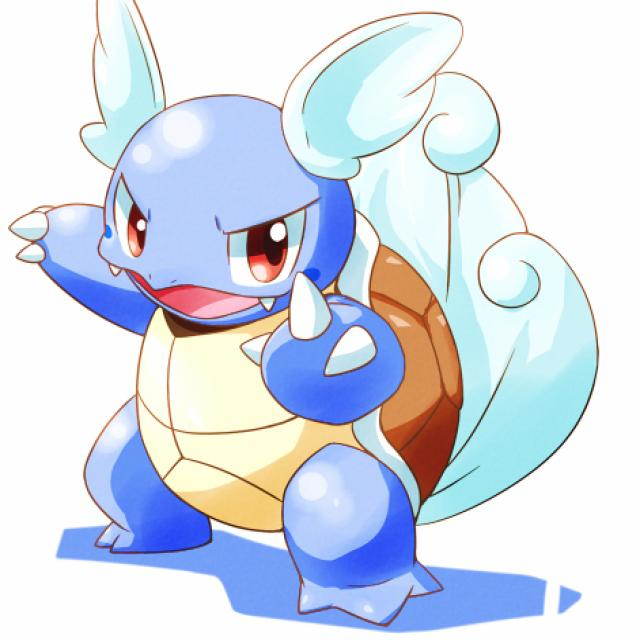Wartortle: (62, 5, 474, 560)
